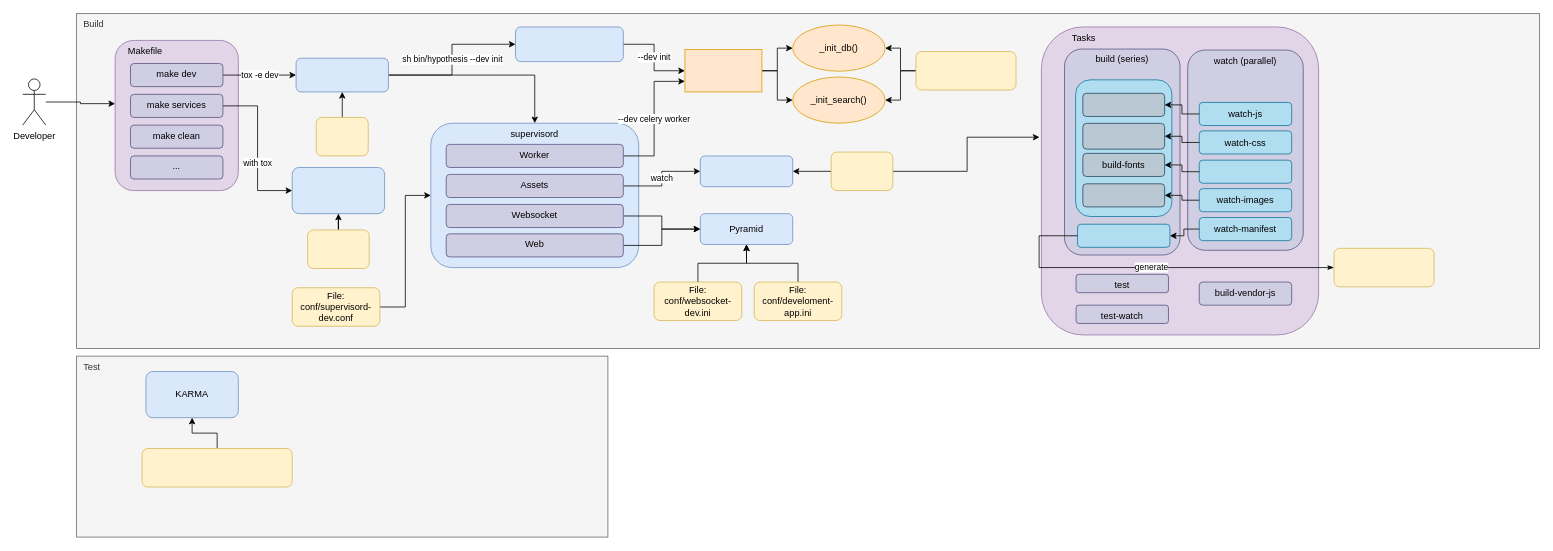
Some shapes in this 1553 by 551 pixel diagram are drawn without their labels. The centre of each missing label's shape, as x and y in pixels:
build-css: pixel 1123 136
build-images: pixel 1123 195
build-js: pixel 1123 104
Docker Compose: pixel 338 190
File: ./h/static/scripts/karma.config.js: pixel 216 467
File: build/manifest.json: pixel 1383 267
File: docker-compose.yml: pixel 338 248
File: gulpfile.js: pixel 861 171
File: h/cli/commands/init.py: pixel 965 70
File: tox.ini: pixel 341 136
generateManifest: pixel 1123 235
GulpJS: pixel 746 171
python -m h: pixel 569 44
Python Module h: pixel 723 70
Tox: pixel 341 74
watch-fonts: pixel 1245 171
